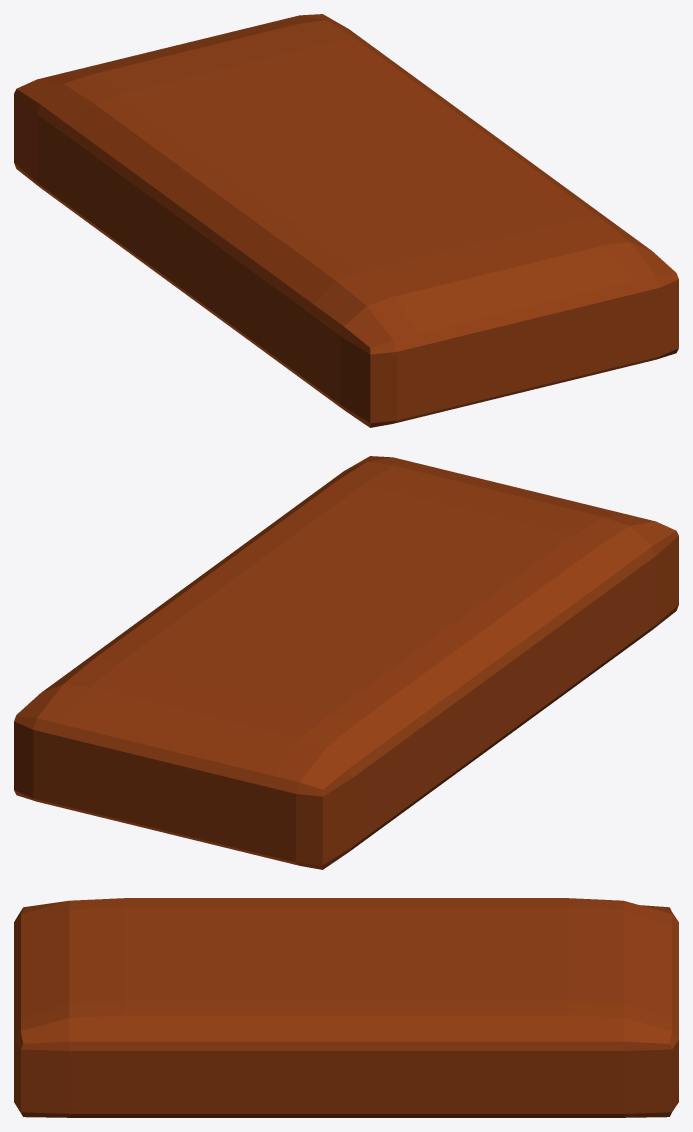
Rendered from field asset.fbx.
3 views of the same model, one above another, from view 1: azimuth 30°, elevation 25°; view 2: azimuth 150°, elevation 25°; view 3: azimuth 270°, elevation 25° (orthographic). The views are drawn at different scales.
Parts seen in each view (by area): view 1: Cube; view 2: Cube; view 3: Cube.
Part boxes in pixels (box(x1,y1,x2,y2)): Cube: box(14, 14, 678, 427); Cube: box(14, 456, 678, 869); Cube: box(14, 898, 678, 1117).
Size of the model in its own units: 400 by 127 by 800.
